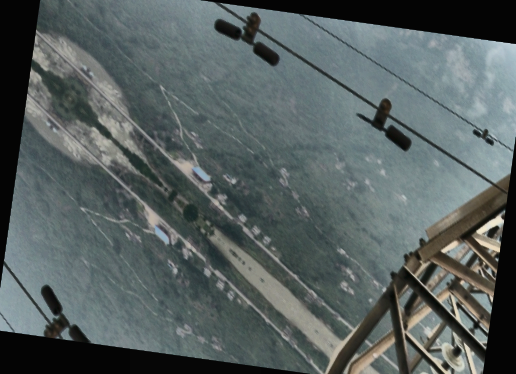damper: (212, 10, 283, 67), (471, 126, 496, 147)
damper_defect: (350, 95, 413, 153)
